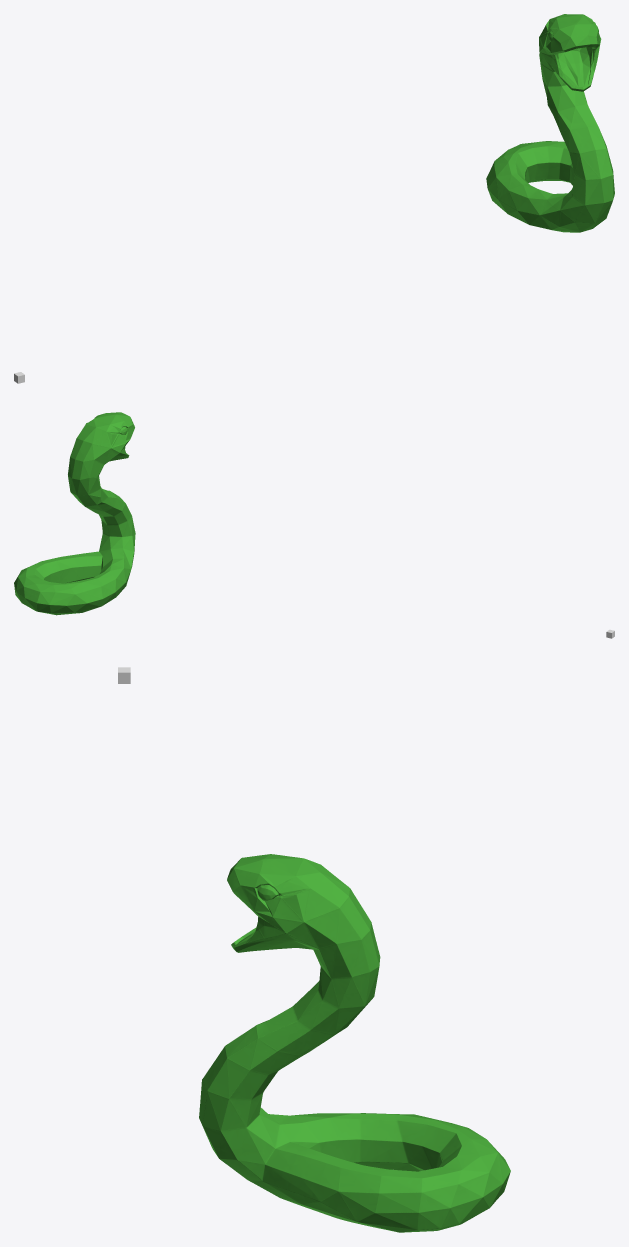
File: snake-web.glb
The picture shows the model from 3 angles, top to bottom: view 1: azimuth 30°, elevation 25°; view 2: azimuth 150°, elevation 25°; view 3: azimuth 270°, elevation 25°; orthographic projection. The views are drawn at different scales.
Parts seen in each view (by area): view 1: single_color-25; view 2: single_color-25; view 3: single_color-25.
Boxes of the visible parts, left/top/right/bottom form: single_color-25: left=486, top=14, right=614, bottom=232; single_color-25: left=14, top=412, right=135, bottom=615; single_color-25: left=199, top=854, right=510, bottom=1232.
Bounding box in the file's own units: 193 × 57.56 × 62.93.
